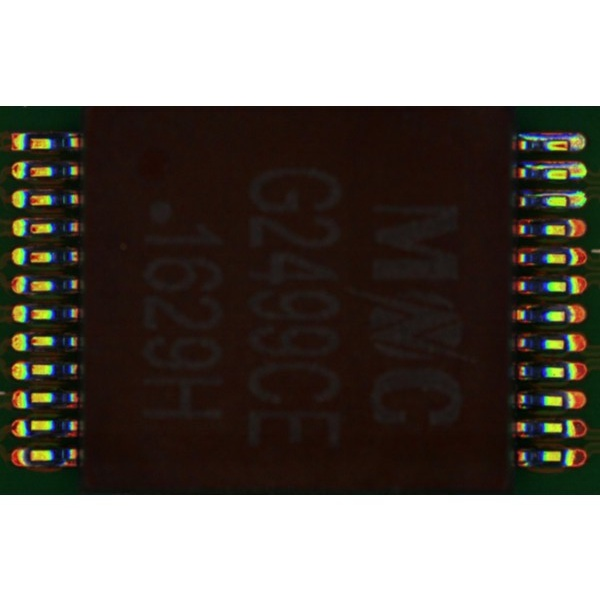Bad_podu: (562, 196, 576, 205), (563, 168, 575, 178), (563, 139, 574, 148)
Bad_qiaojiao: (518, 133, 568, 139), (525, 163, 567, 168), (526, 191, 567, 196)
